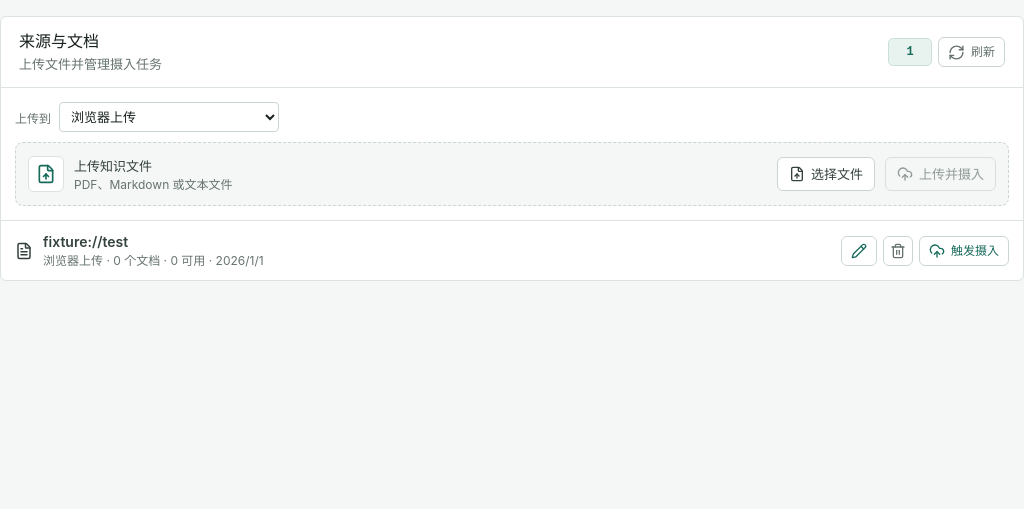
Test case: SourcesPanel task controls › switches to the new task after retry and exposes action labels
This screenshot has width=1024, height=509.
Expected: the text "fixture://test" is shown, [43, 233, 128, 250]
Expected: the text "浏览器上传 · 0 个文档 · 0 可用 · 2026/1/1" is shown, [43, 253, 264, 268]
Step 1. Click the button "触发摄入" → (964, 250), box [919, 236, 1009, 266]
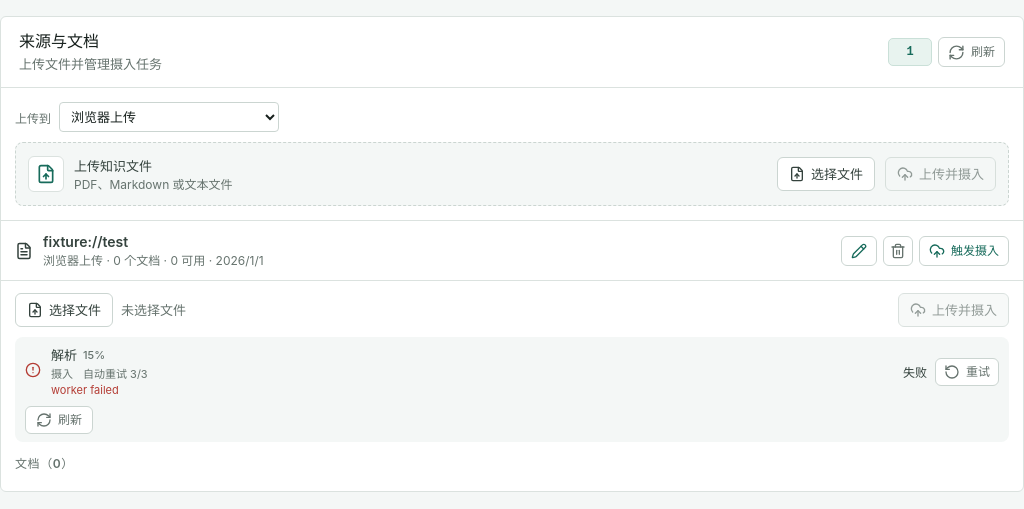
Now the text "失败" is shown, box [903, 363, 927, 380]
Now the text "自动重试 3/3" is shown, box [83, 365, 148, 381]
Step 2. Click the button "重试" → (967, 372), box [935, 358, 999, 386]
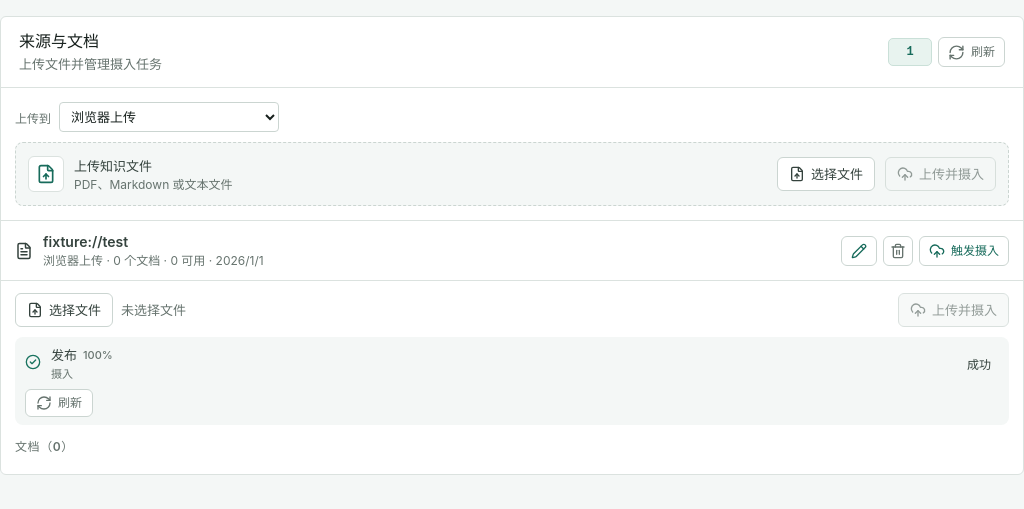
Now the text "成功" is shown, box [967, 354, 991, 372]
